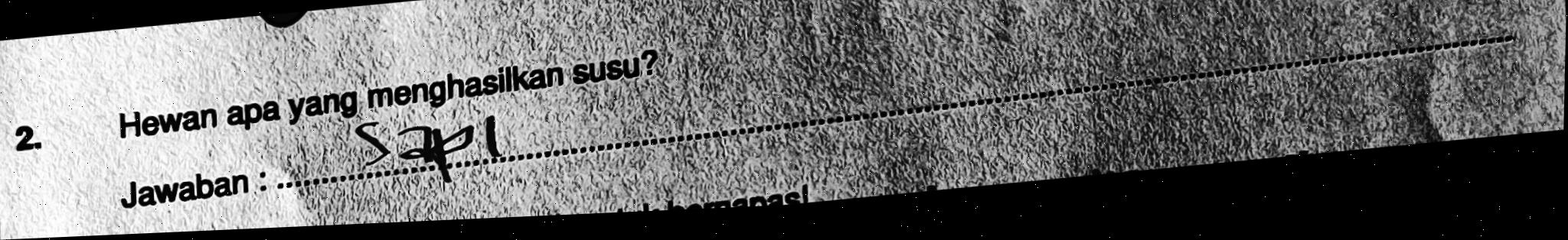jawaban: (350, 106, 514, 179)
